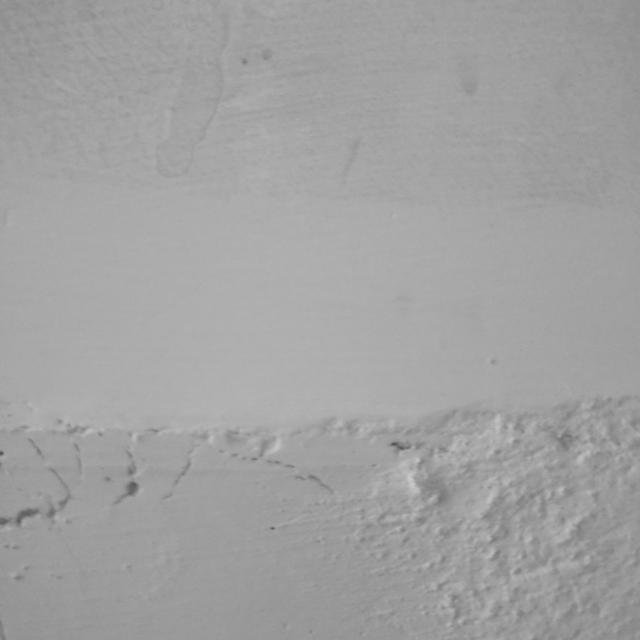rough and patchy surface: (0, 388, 640, 640)
stain marks: (0, 0, 640, 218)
